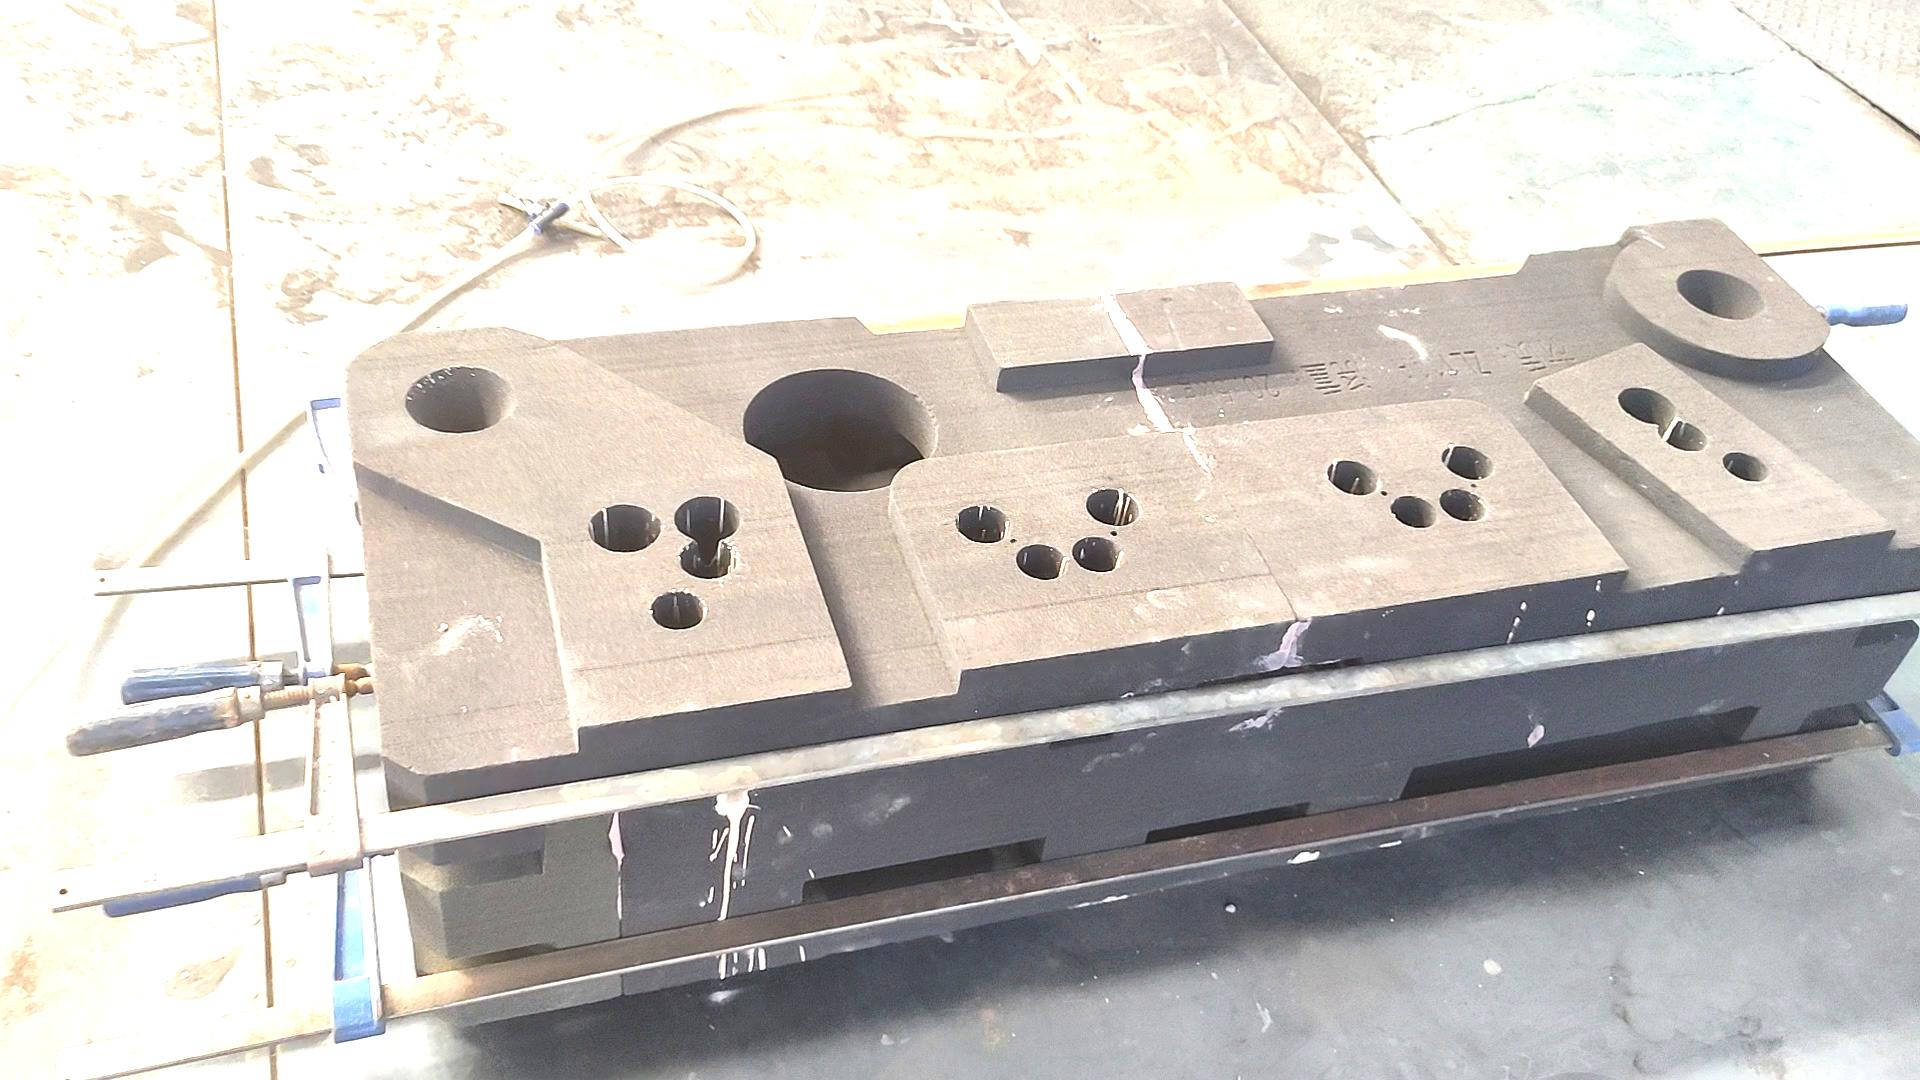pouring hole: (405, 367, 514, 433), (1679, 268, 1766, 319)
